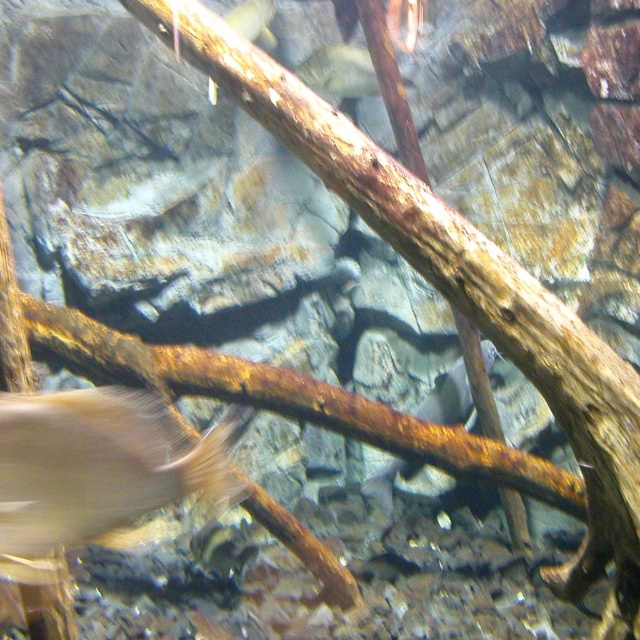Fish: (0, 393, 253, 563)
